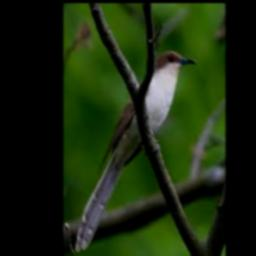Cuckoo: (75, 51, 196, 252)
